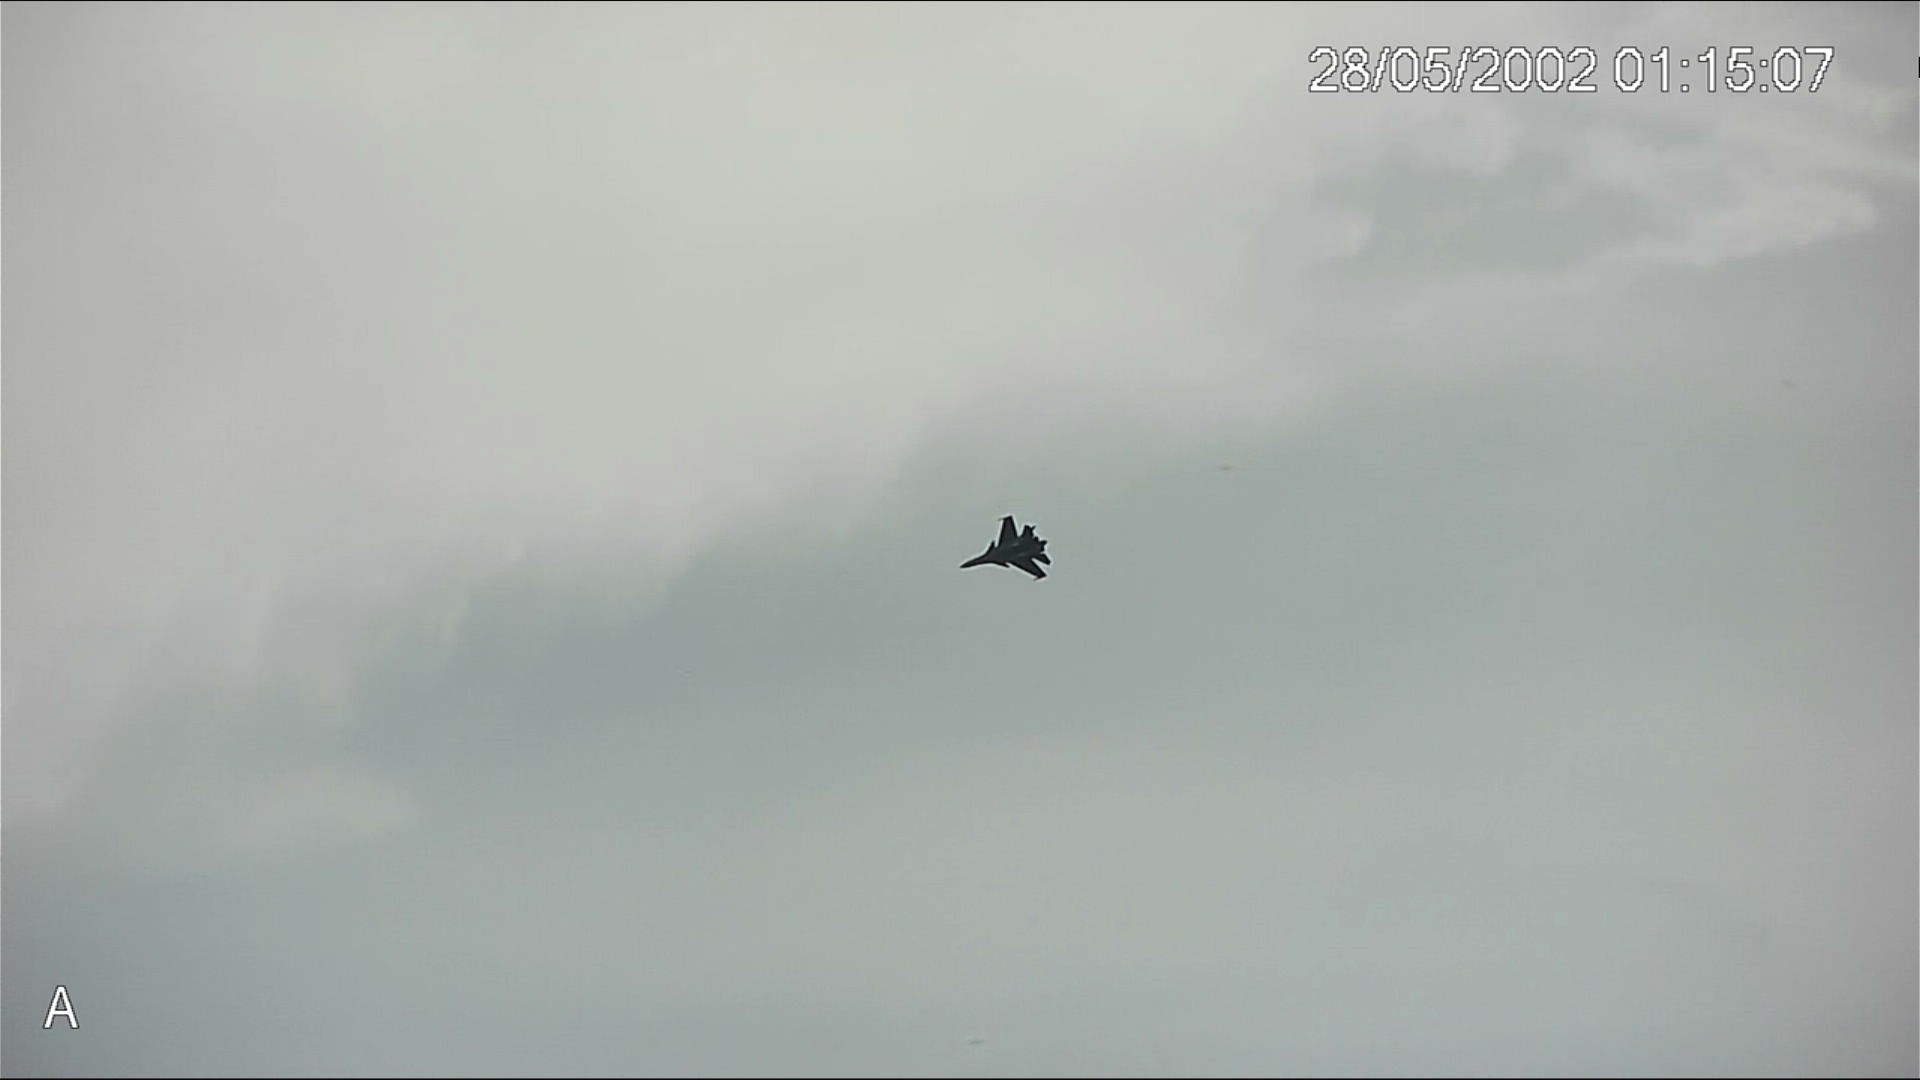SU_30: (949, 510, 1060, 587)
